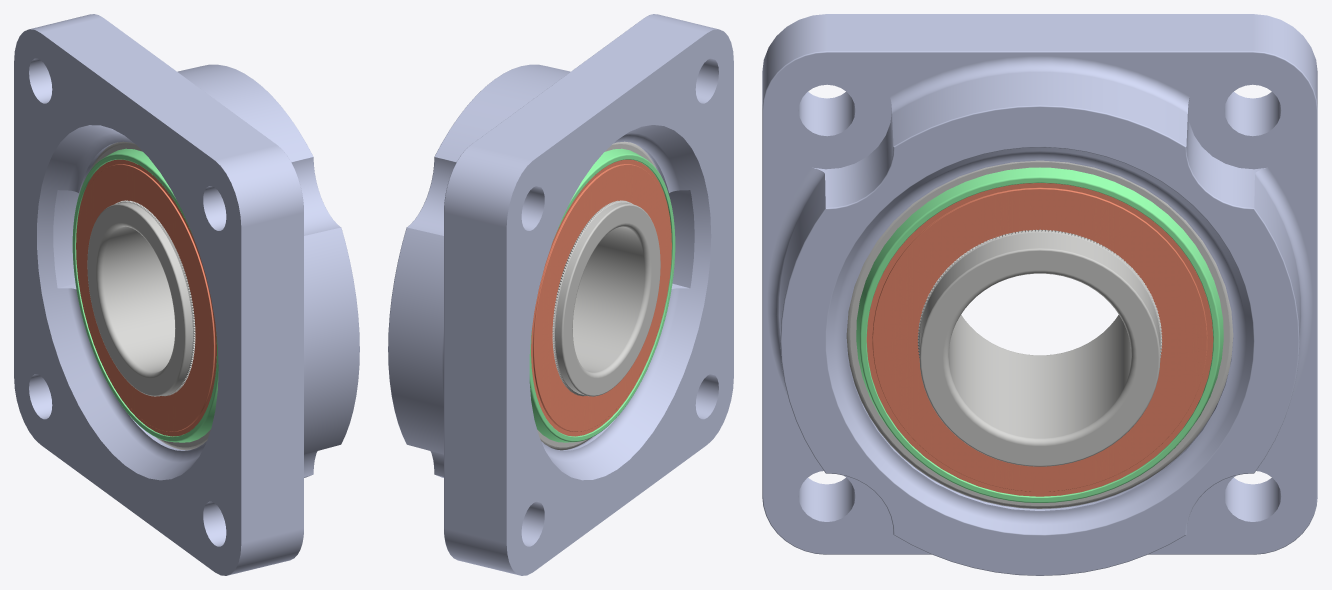
The model's file is BUQ-309-2T3H.glb.
The picture shows the model from 3 angles, left to right: view 1: azimuth 30°, elevation 25°; view 2: azimuth 150°, elevation 25°; view 3: azimuth 270°, elevation 25°; orthographic projection. The views are drawn at different scales.
Visible parts, largest first — view 1: color-3, polished platinum, texture-4, white-pw-mt11050; view 2: color-3, polished platinum, texture-4, white-pw-mt11050; view 3: color-3, polished platinum, texture-4, white-pw-mt11050.
Part boxes in pixels (<box>): color-3: <box>14,14,359,575</box>; polished platinum: <box>87,141,210,450</box>; texture-4: <box>76,159,216,436</box>; white-pw-mt11050: <box>72,148,218,442</box>; color-3: <box>388,14,733,575</box>; polished platinum: <box>537,141,660,450</box>; texture-4: <box>531,159,671,436</box>; white-pw-mt11050: <box>529,148,675,442</box>; color-3: <box>762,14,1317,575</box>; polished platinum: <box>846,160,1233,508</box>; texture-4: <box>866,183,1213,496</box>; white-pw-mt11050: <box>856,167,1223,502</box>.
Bounding box in the file's own units: 0.054 × 0.137 × 0.137.
Materials: 10 (5 with a texture image).
